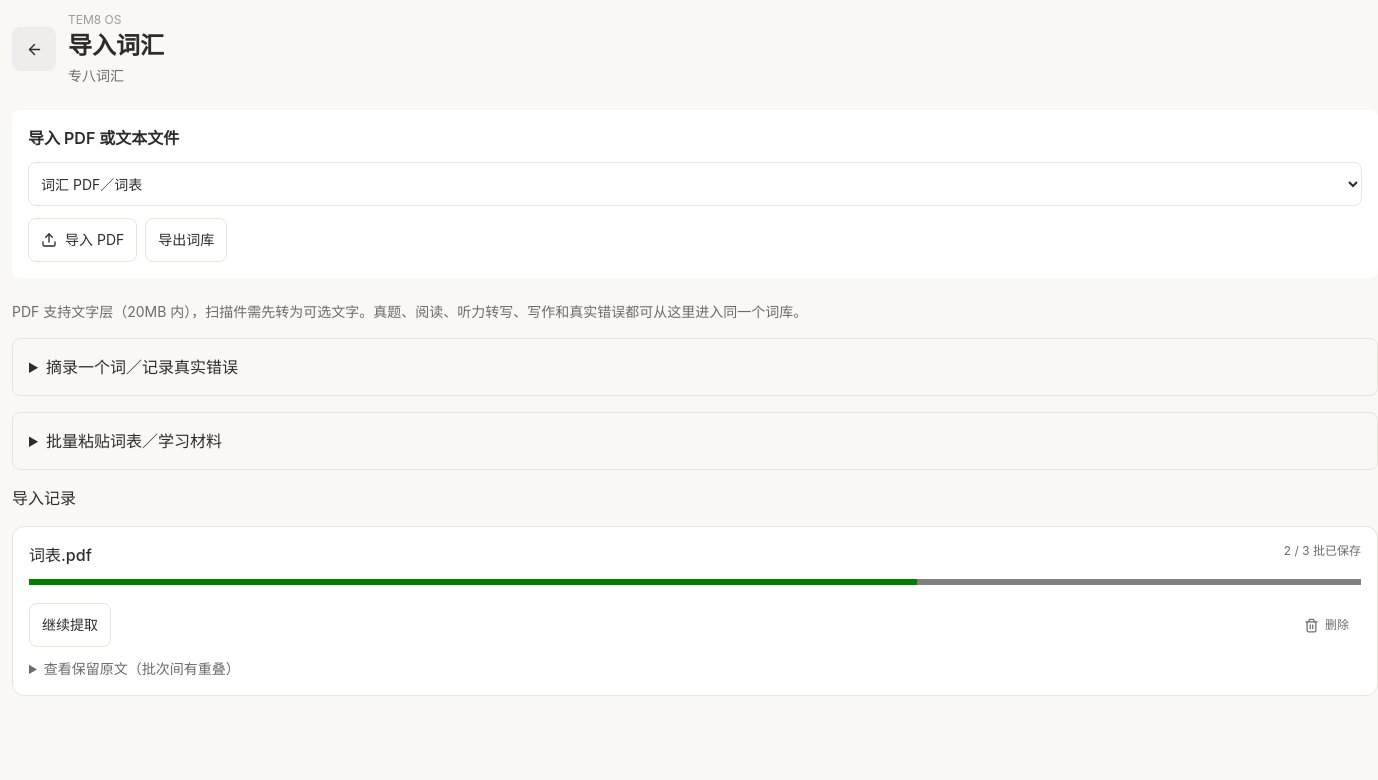
Scenario: TEM8 full vocabulary page › resumes only incomplete import chunks
The width and height of the screenshot is (1378, 780).
Click the button "继续提取" at (70, 625), box [29,603,111,647]
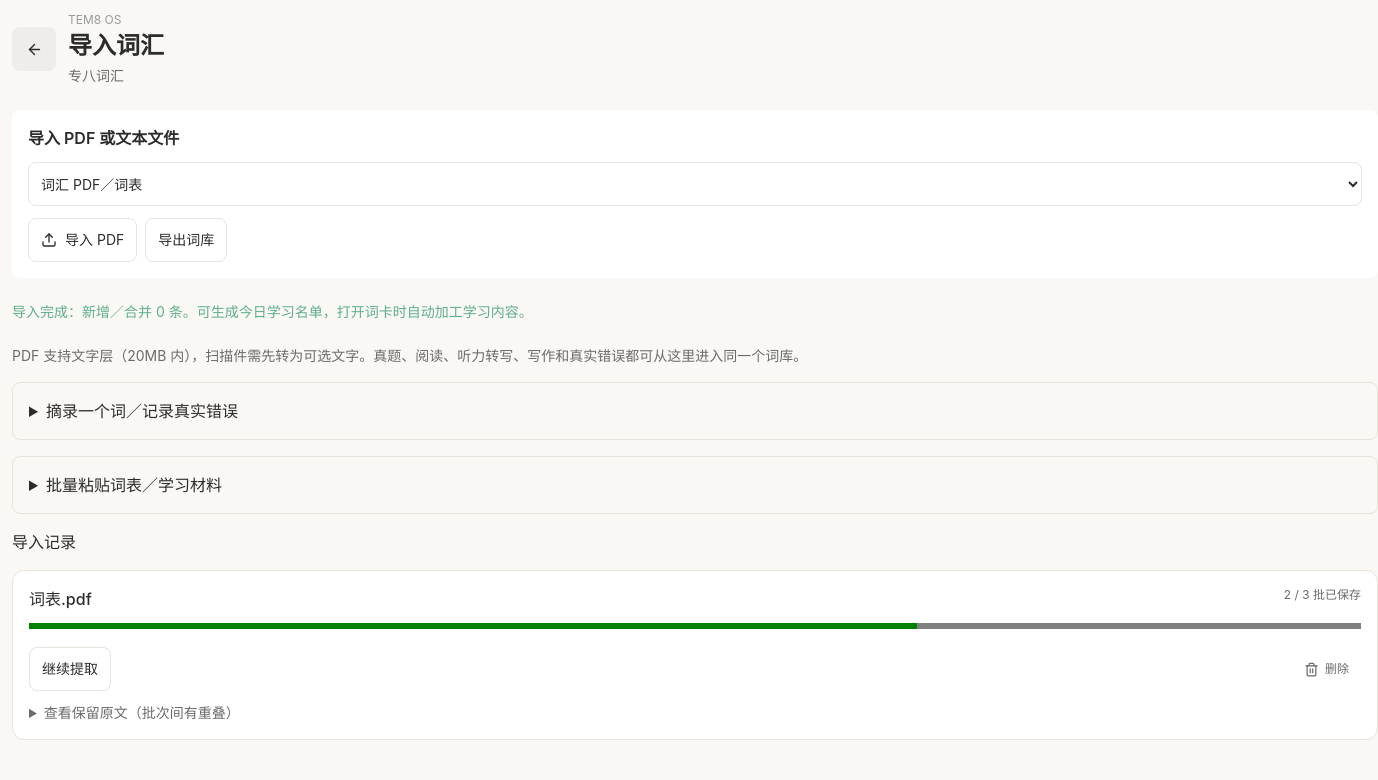
Check: the message shows "导入完成", box [12,303,533,320]
